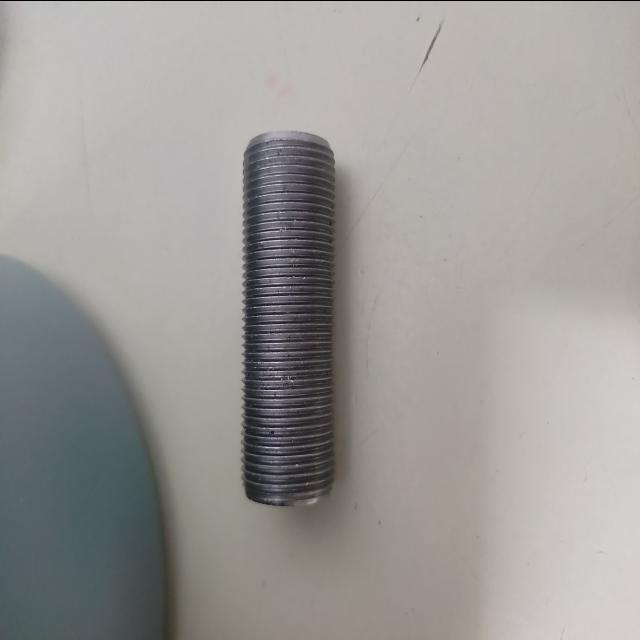Normal: (240, 130, 336, 506)
